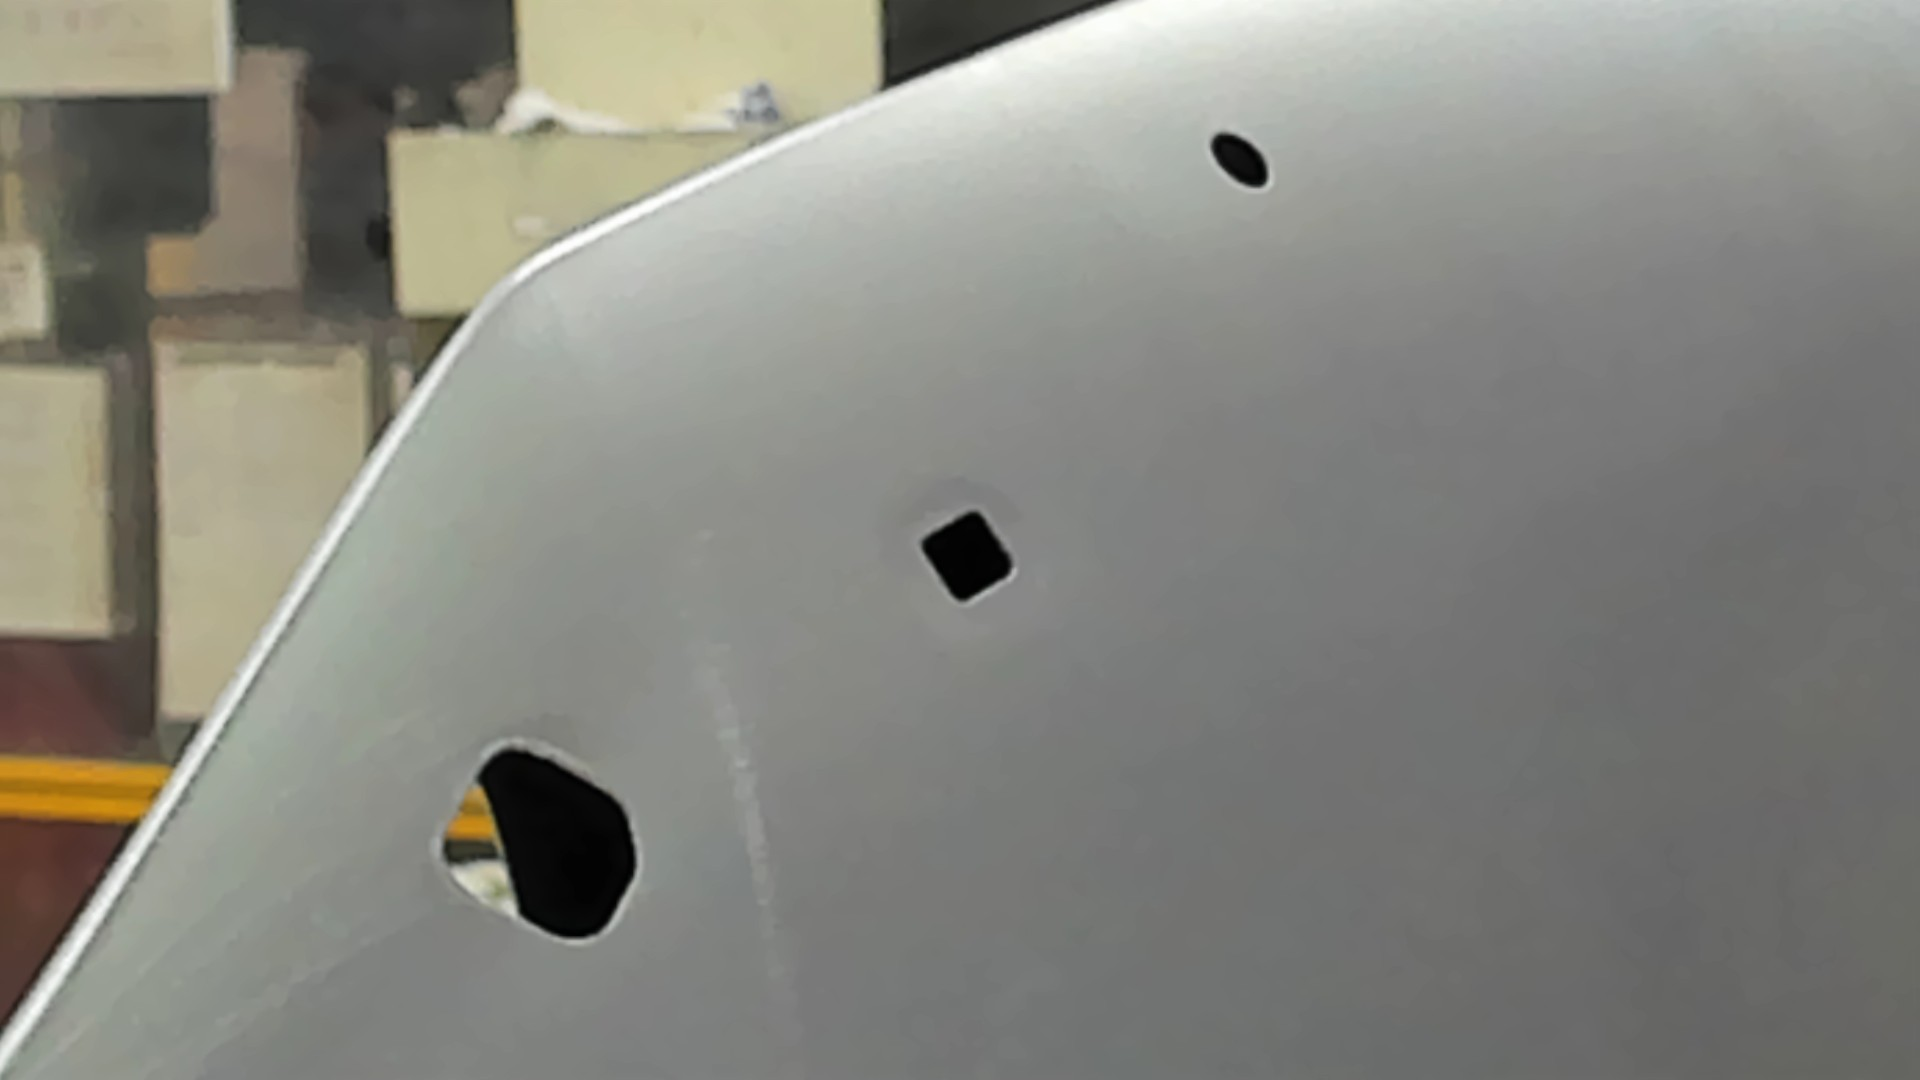chico: (1205, 127, 1274, 195)
grande: (425, 732, 647, 953)
mediano: (911, 505, 1025, 611)
